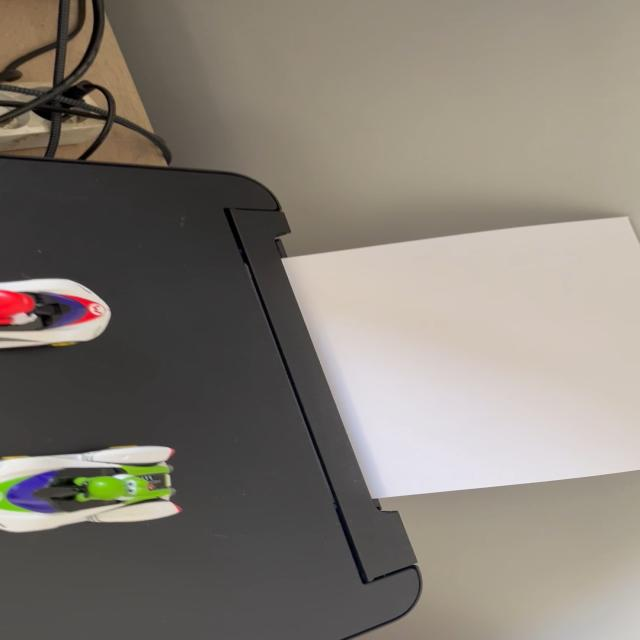mario: (2, 270, 132, 362)
yoshi: (0, 438, 197, 543)
